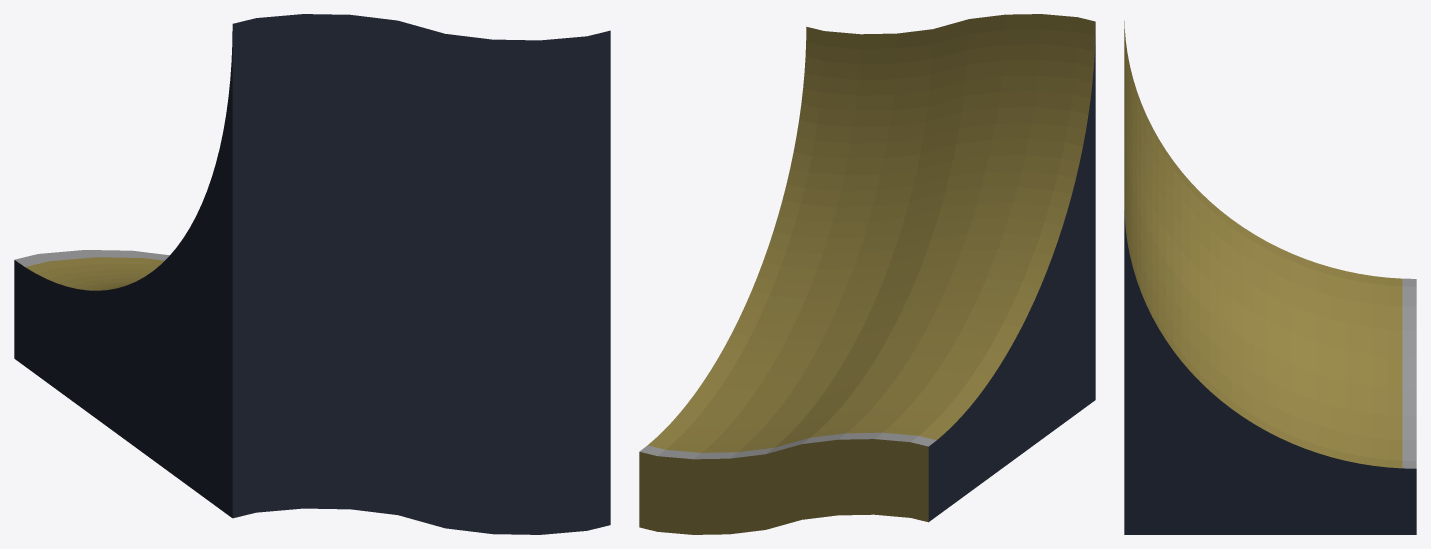
The model's file is Bowl S Connect.fbx.
3 views of the same model, side by side, from view 1: azimuth 30°, elevation 25°; view 2: azimuth 150°, elevation 25°; view 3: azimuth 270°, elevation 25° (orthographic). The views are drawn at different scales.
Visible parts, largest first — view 1: Bowl S Connect; view 2: Bowl S Connect; view 3: Bowl S Connect.
Part boxes in pixels (x1=…): Bowl S Connect: x1=14, y1=14, x2=610, y2=534; Bowl S Connect: x1=639, y1=14, x2=1095, y2=534; Bowl S Connect: x1=1124, y1=21, x2=1416, y2=534.
Bounding box in the file's own units: 800 × 1200 × 800.
